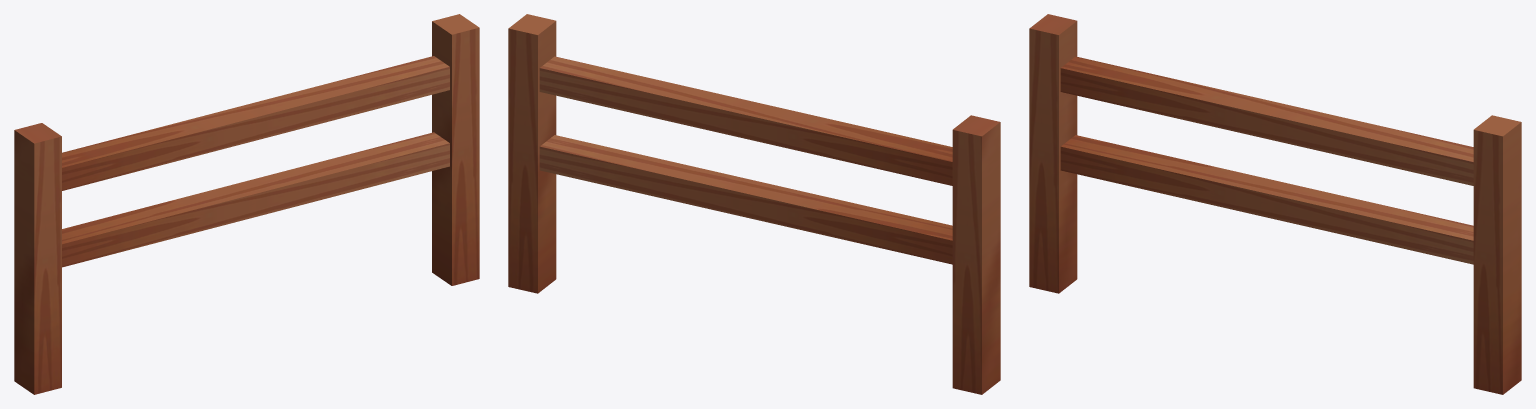
File: SM_Barrier.fbx
3 renders of one model, left to right at view 1: azimuth 30°, elevation 25°; view 2: azimuth 150°, elevation 25°; view 3: azimuth 330°, elevation 25°, orthographic. The views are drawn at different scales.
Visible parts, largest first — view 1: Cube.026; view 2: Cube.026; view 3: Cube.026.
Part boxes in pixels (x1,y1,x2,y2): Cube.026: [14, 14, 479, 394]; Cube.026: [508, 14, 1000, 394]; Cube.026: [1029, 14, 1521, 394].
Size of the model in its own units: 161 by 85.28 by 16.28.
